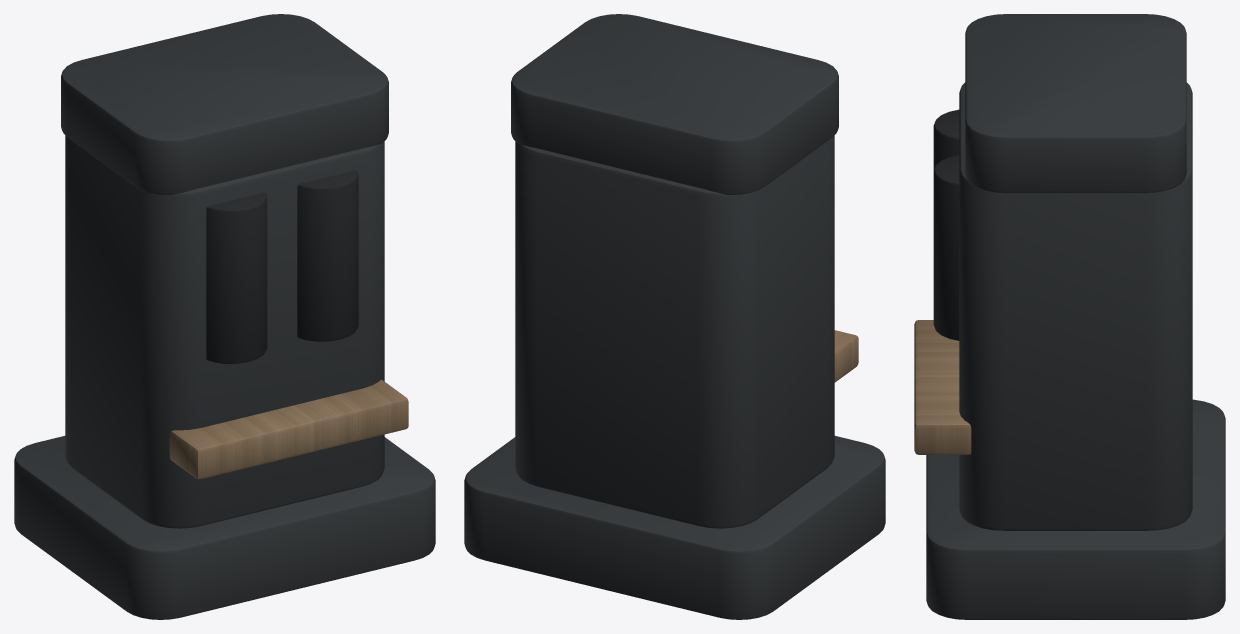
The model's file is club_cleaner_premium.glb.
3 views of the same model, side by side, from view 1: azimuth 30°, elevation 25°; view 2: azimuth 150°, elevation 25°; view 3: azimuth 270°, elevation 25° (orthographic). The views are drawn at different scales.
Parts seen in each view (by area): view 1: ClubCleaner_Cabinet, ClubCleaner_Lid, ClubCleaner_Base, ClubCleaner_DripTray, ClubCleaner_Brush_2, ClubCleaner_Brush_1; view 2: ClubCleaner_Cabinet, ClubCleaner_Lid, ClubCleaner_Base, ClubCleaner_DripTray; view 3: ClubCleaner_Cabinet, ClubCleaner_Lid, ClubCleaner_Base, ClubCleaner_DripTray, ClubCleaner_Brush_2, ClubCleaner_Brush_1.
Part boxes in pixels (x1,y1,x2,y2): ClubCleaner_Cabinet: (65,135,384,528); ClubCleaner_Lid: (61,14,388,194); ClubCleaner_Base: (14,436,435,619); ClubCleaner_DripTray: (169,379,408,479); ClubCleaner_Brush_2: (297,170,358,341); ClubCleaner_Brush_1: (206,192,267,363); ClubCleaner_Cabinet: (515,135,834,528); ClubCleaner_Lid: (511,14,838,194); ClubCleaner_Base: (464,436,885,619); ClubCleaner_DripTray: (834,330,858,382); ClubCleaner_Cabinet: (959,82,1192,530); ClubCleaner_Lid: (965,14,1186,192); ClubCleaner_Base: (926,399,1225,619); ClubCleaner_DripTray: (914,320,971,454); ClubCleaner_Brush_2: (933,155,959,340); ClubCleaner_Brush_1: (933,109,959,170).
Size of what is drawn, in the model's own units: 0.48 by 0.6943 by 0.416.
Materials: 3 (1 with a texture image).
